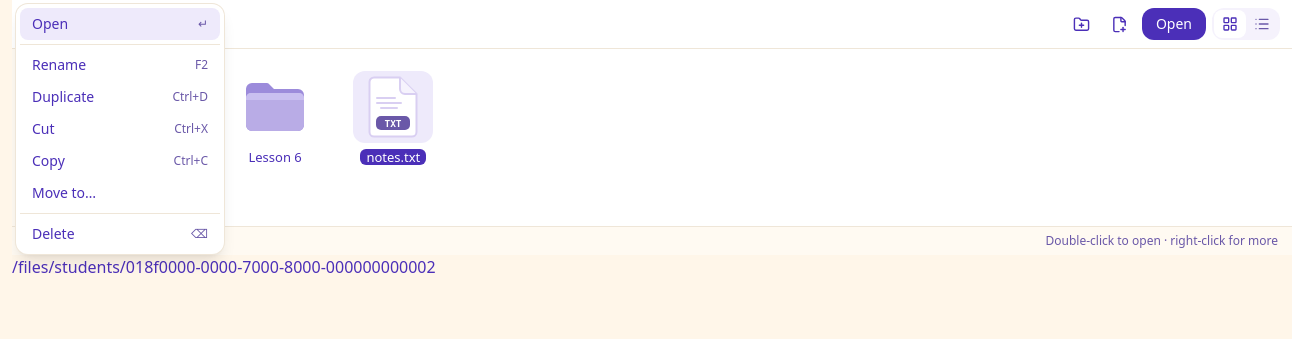
Test: right-clicking a file renames it; a refused name keeps the box open, in not-yet
Click the menu item "Rename F2". click: click(120, 65)
box: [20, 49, 220, 81]
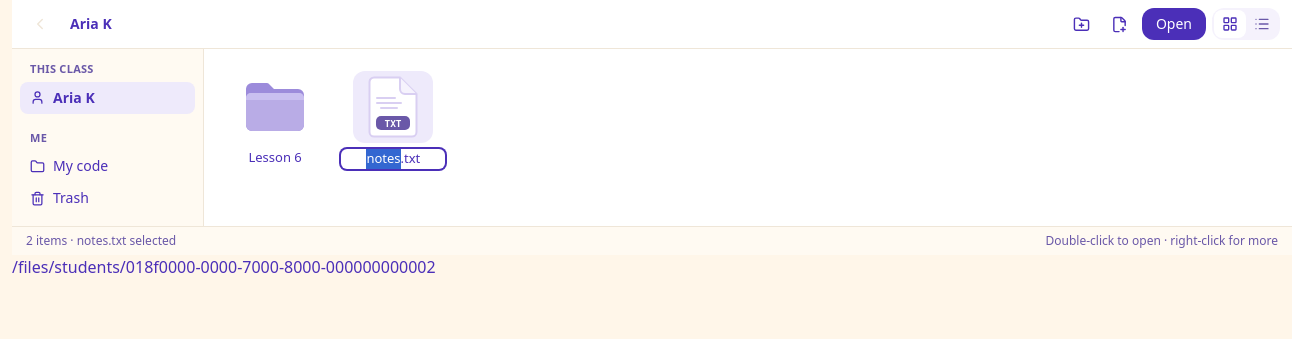
Replace the text in the field named "New name for notes.txt" with "stars.py". click: (393, 159)
box: [341, 149, 445, 168]
Then press Enter
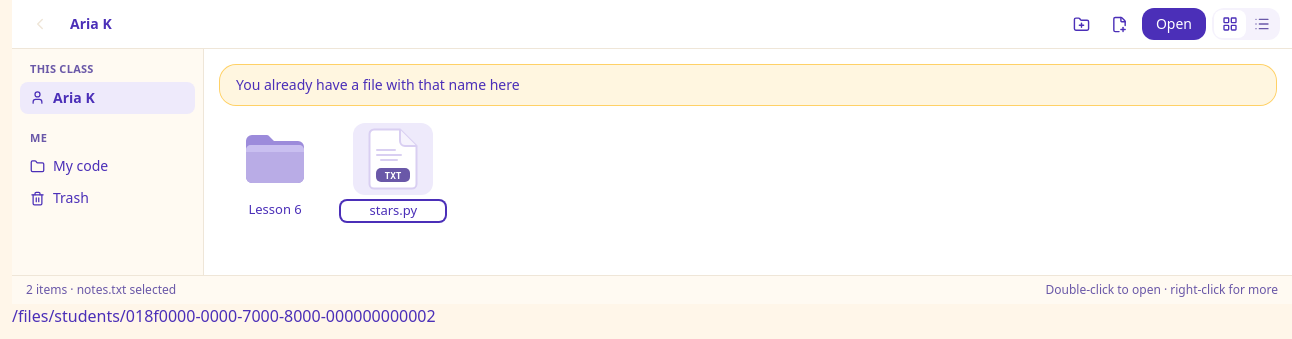
expect the text "You already have a file with that name here" is shown: met, box [220, 65, 1276, 105]
